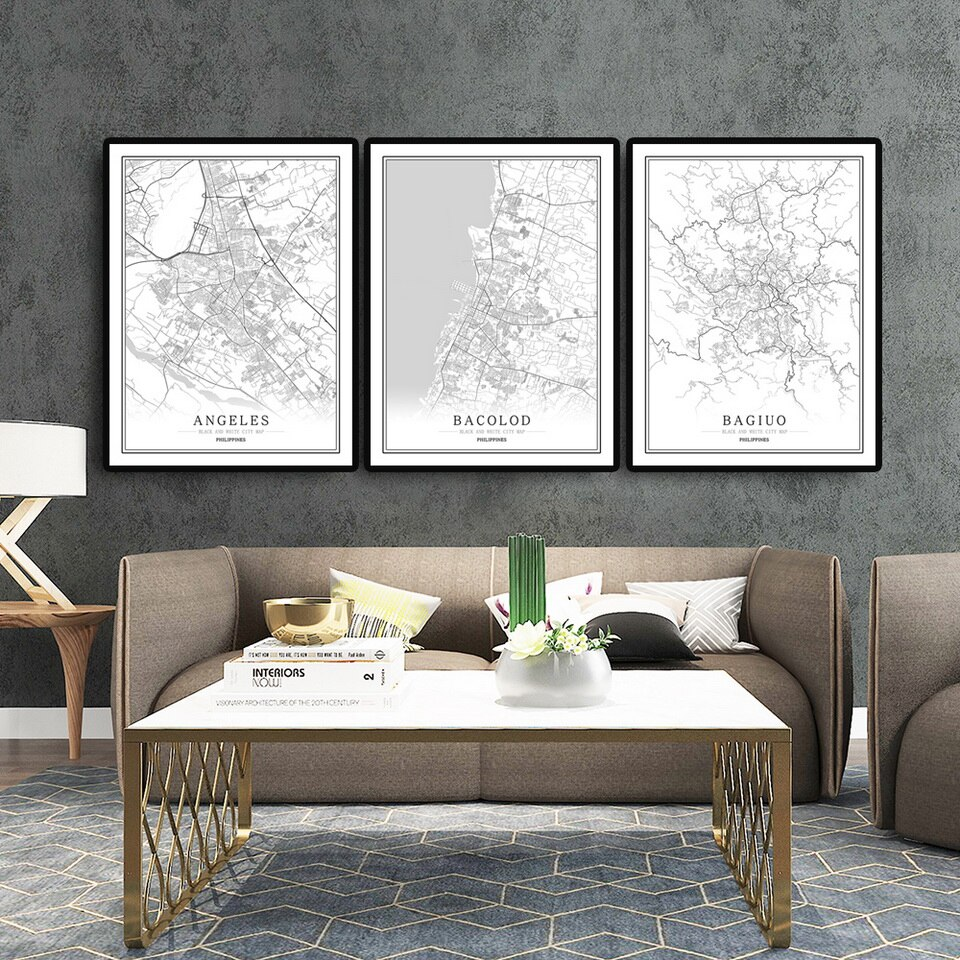bantal: (324, 568, 435, 654), (629, 573, 751, 651), (577, 589, 700, 666)
buku: (206, 635, 421, 712)
lampu: (1, 407, 92, 605)
lukisan: (623, 133, 889, 481), (98, 133, 362, 478), (360, 133, 622, 479)
meja: (122, 664, 799, 950), (1, 599, 108, 761)
sova: (119, 539, 853, 805)
tanaman: (498, 532, 614, 707)
